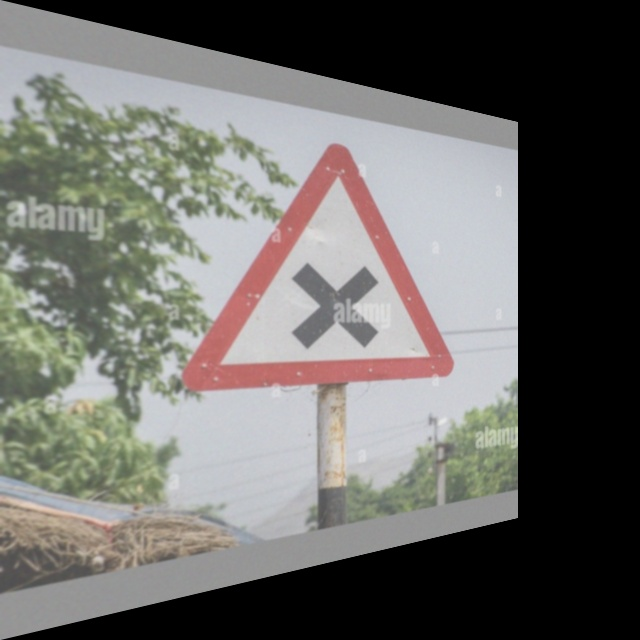Cross_Road: (181, 114, 455, 391)
